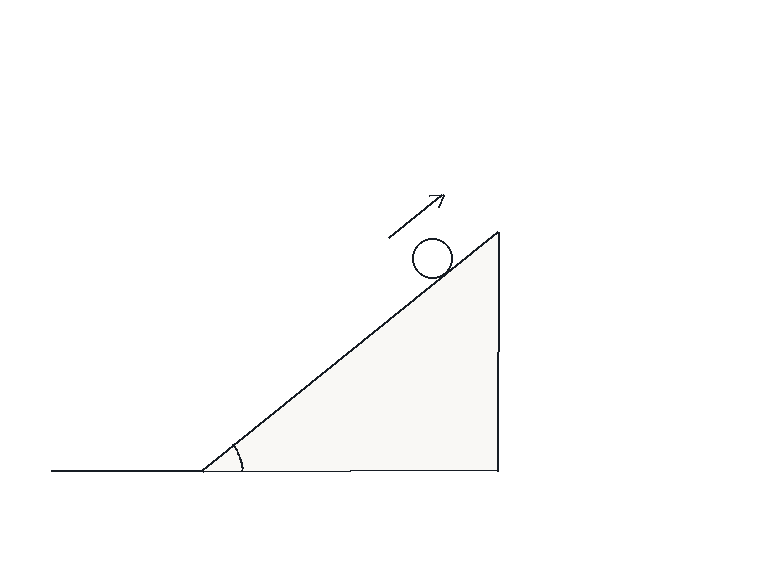ball: (410, 236, 454, 280)
ramp: (200, 229, 499, 472)
